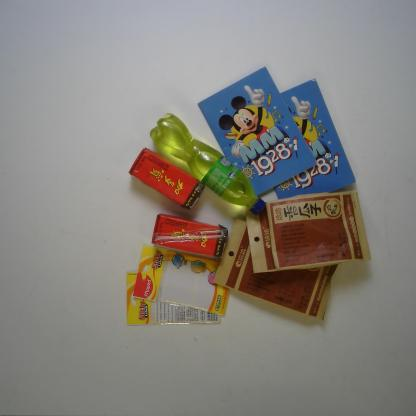Dried Food: (213, 216, 339, 324), (247, 186, 374, 274)
Drink: (148, 112, 267, 214), (129, 148, 204, 209), (150, 214, 228, 259)
Stationery: (195, 66, 317, 198), (273, 75, 356, 199), (132, 243, 230, 317), (125, 269, 222, 326)
